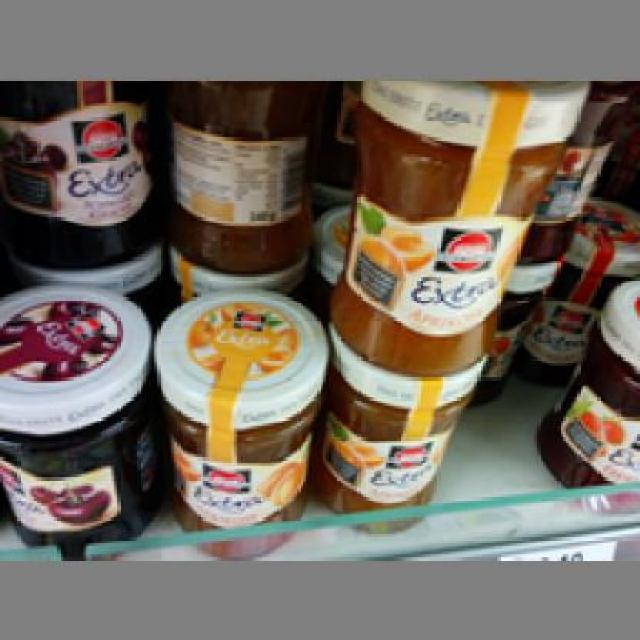Jam: (328, 76, 588, 372), (150, 288, 327, 558), (0, 278, 152, 555), (310, 323, 487, 534), (0, 77, 157, 266), (166, 80, 314, 277), (534, 276, 637, 489)
